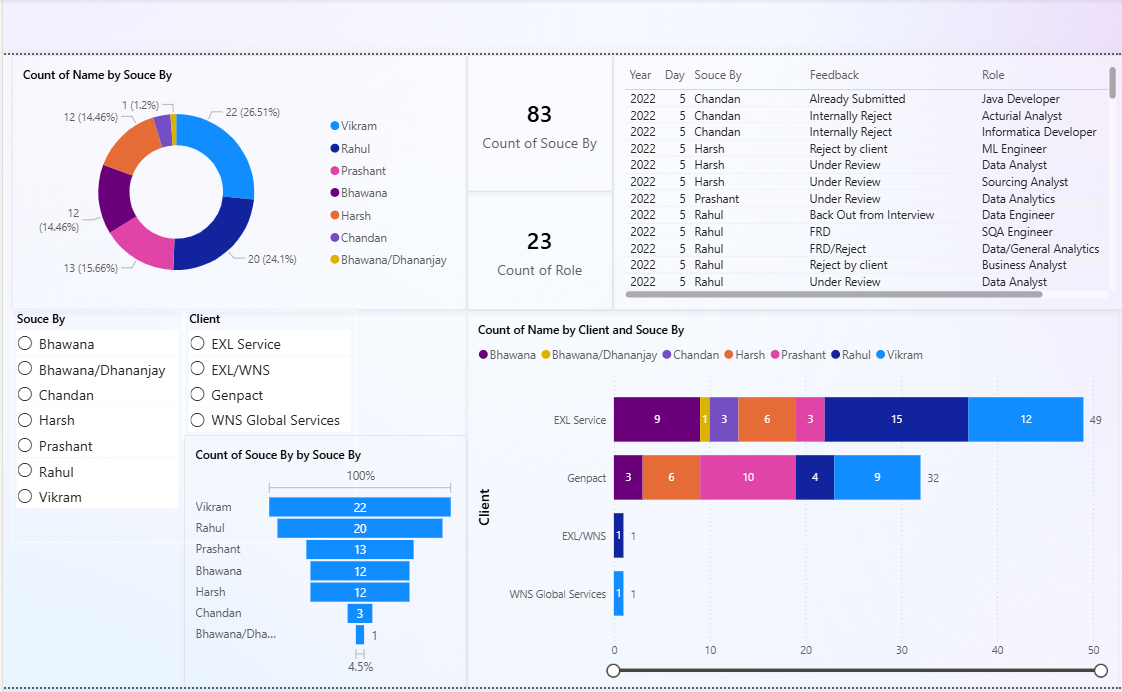

Layout of this report page (visuals, bound fields, positions):
{"tool":"powerbi","page":{"name":"Page 1","canvas":[1280,720],"ordinal":0},"visuals":[{"type":"donutChart","fields":{"Category":["Sheet6.Souce By"],"Y":["CountNonNull(Sheet6.Name)"]},"box":[10,0,517.7,290.1],"z":0},{"type":"listSlicer","fields":{"Values":["Sheet6.Souce By"]},"box":[10,290.1,196.3,264.5],"z":1},{"type":"card","fields":{"Values":["CountNonNull(Sheet6.Souce By)"]},"box":[527.6,0,166.4,155],"z":2},{"type":"card","fields":{"Values":["Count(Sheet6.Role)"]},"box":[527.6,155,166.4,135.1],"z":3},{"type":"tableEx","fields":{"Values":["Sheet6.Date.Variation.Date Hierarchy.Year","Sheet6.Date.Variation.Date Hierarchy.Day","Sheet6.Souce By","Sheet6.Feedback","Sheet6.Role","Sheet6.Client"]},"box":[694,0,586,290.1],"z":4},{"type":"barChart","fields":{"Category":["Sheet6.Client"],"Series":["Sheet6.Souce By"],"Y":["CountNonNull(Sheet6.Name)"]},"box":[527.6,290.1,742.4,429.5],"z":5},{"type":"listSlicer","fields":{"Values":["Sheet6.Client"]},"box":[206.2,290.1,196.3,264.5],"z":6},{"type":"funnel","fields":{"Category":["Sheet6.Souce By"],"Y":["CountNonNull(Sheet6.Souce By)"]},"box":[206.2,432.4,321.4,287.3],"z":7}]}

Visuals, with their boxes on the page's 1280x720 design canvas (x1, y1, x2, y2). These are canvas units, not pixel positions in the 1122x692 screenshot, which may show the page scaled, cropped or inside an application window:
donutChart - Sheet6.Souce By x CountNonNull(Sheet6.Name): 10 0 528 290
listSlicer - Sheet6.Souce By: 10 290 206 555
card - CountNonNull(Sheet6.Souce By): 528 0 694 155
card - Count(Sheet6.Role): 528 155 694 290
tableEx - Sheet6.Date.Variation.Date Hierarchy.Year x Sheet6.Date.Variation.Date Hierarchy.Day: 694 0 1280 290
barChart - Sheet6.Client x Sheet6.Souce By: 528 290 1270 720
listSlicer - Sheet6.Client: 206 290 402 555
funnel - Sheet6.Souce By x CountNonNull(Sheet6.Souce By): 206 432 528 720
